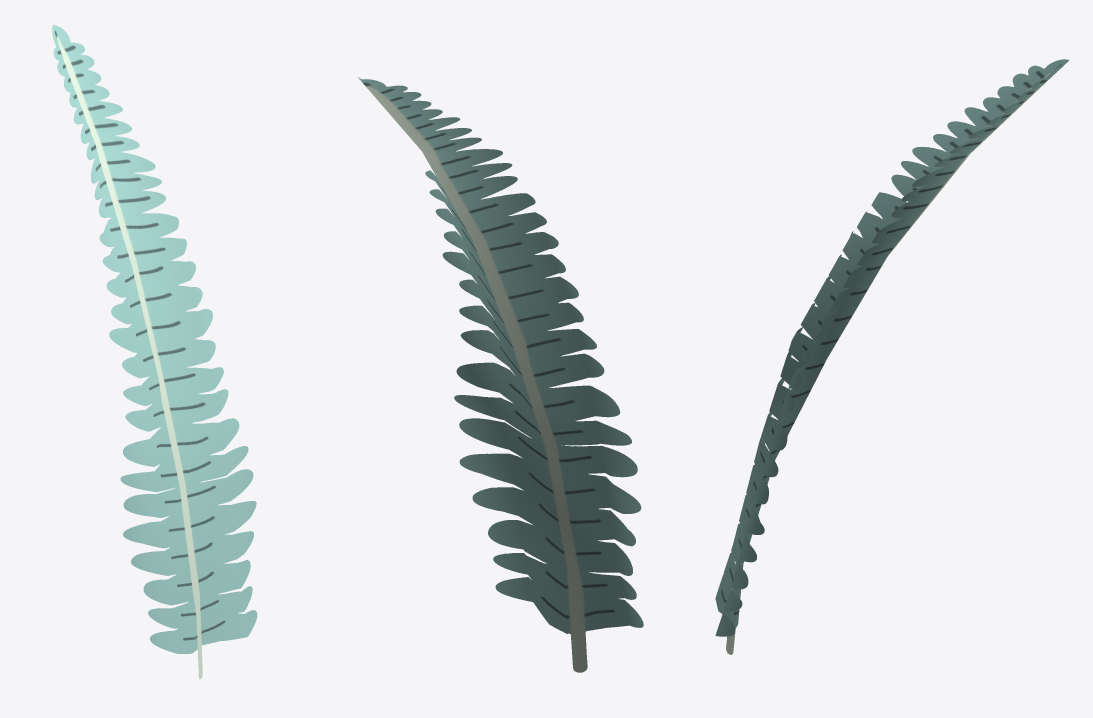
The model's file is fern04.fbx.
3 renders of one model, left to right at view 1: azimuth 30°, elevation 25°; view 2: azimuth 150°, elevation 25°; view 3: azimuth 270°, elevation 25°, orthographic. The views are drawn at different scales.
Visible parts, largest first — view 1: fern04; view 2: fern04; view 3: fern04.
Boxes of the visible parts, bbox=[...] form: fern04: bbox=[52, 25, 257, 679]; fern04: bbox=[358, 77, 643, 672]; fern04: bbox=[715, 59, 1069, 654].
Bounding box in the file's own units: 0.153 × 0.5834 × 0.3264.
